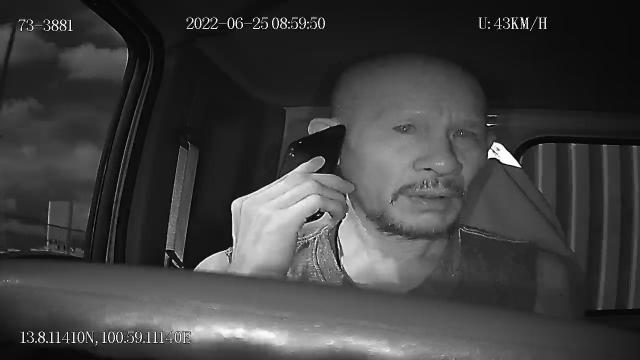PhoneUse: (278, 124, 346, 218)
SafeDriving: (440, 116, 482, 150), (382, 109, 427, 140)
